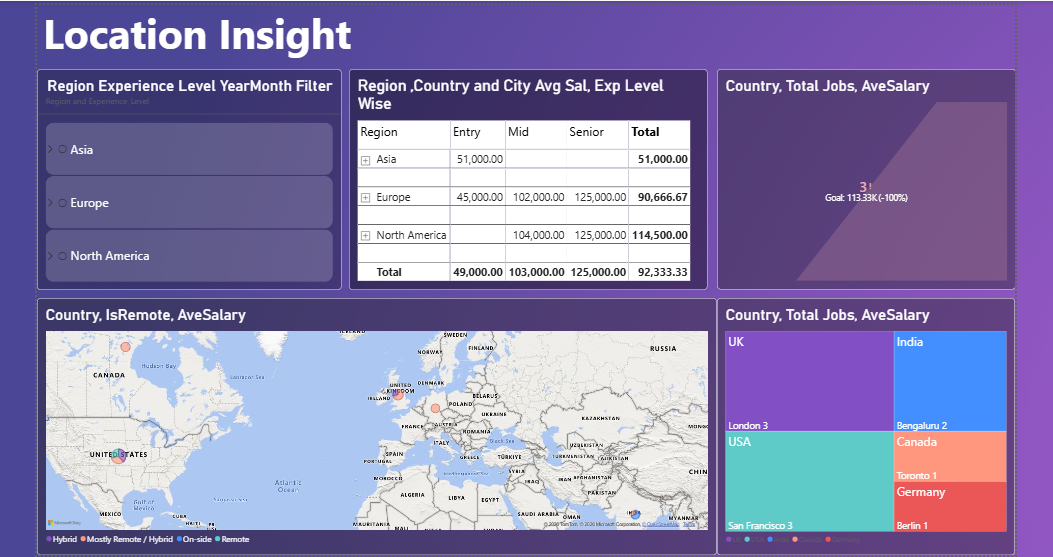

This screenshot's page, from the dashboard's own definition file:
{"tool":"powerbi","page":{"name":"Location Insight","canvas":[1920,1080],"ordinal":1},"visuals":[{"type":"textbox","box":[10.8,0,619.9,125.3],"z":0},{"type":"listSlicer","title":"Region Experience Level YearMonth Filter","fields":{"Values":["Dim_Locations.Region","Fact_Jobs.Experience_Level","Dim_Date.YearMonth"]},"box":[0,125.3,598.3,434.2],"z":1000},{"type":"map","title":"Country, IsRemote, AveSalary","fields":{"Category":["Dim_Locations.Country"],"Series":["Fact_Jobs.IsRemote"],"Size":["Fact_Jobs.AveSalaryByCountry"]},"box":[0,574.6,1334.9,505.4],"z":2000},{"type":"kpi","title":"Country, Total Jobs, AveSalary","fields":{"Goal":["Fact_Jobs.AveSalaryByCountry"],"Indicator":["Fact_Jobs.TotalJobs"],"TrendLine":["Dim_Locations.Country"]},"box":[1334.8,126.1,587,432.6],"z":3000},{"type":"treemap","title":"Country, Total Jobs, AveSalary","fields":{"Group":["Dim_Locations.Country"],"Values":["Fact_Jobs.TotalJobs"],"Details":["Dim_Locations.City"]},"box":[1334.9,574.6,585.4,505.4],"z":4000},{"type":"pivotTable","title":"Region ,Country and City Avg Sal, Exp Level Wise","fields":{"Rows":["Dim_Locations.Region","Dim_Locations.Country","Dim_Locations.City"],"Values":["Fact_Jobs.AvgSalaryByExperience"],"Columns":["Fact_Jobs.Experience_Level"]},"box":[613.4,125.3,704.2,434.2],"z":5000}]}

Visuals, with their boxes on the page's 1920x1080 design canvas (x1, y1, x2, y2). These are canvas units, not pixel positions in the 1053x557 screenshot, which may show the page scaled, cropped or inside an application window:
textbox: bbox=(11, 0, 631, 125)
"Region Experience Level YearMonth Filter" listSlicer: bbox=(0, 125, 598, 560)
"Country, IsRemote, AveSalary" map: bbox=(0, 575, 1335, 1080)
"Country, Total Jobs, AveSalary" kpi: bbox=(1335, 126, 1922, 559)
"Country, Total Jobs, AveSalary" treemap: bbox=(1335, 575, 1920, 1080)
"Region ,Country and City Avg Sal, Exp Level Wise" pivotTable: bbox=(613, 125, 1318, 560)
